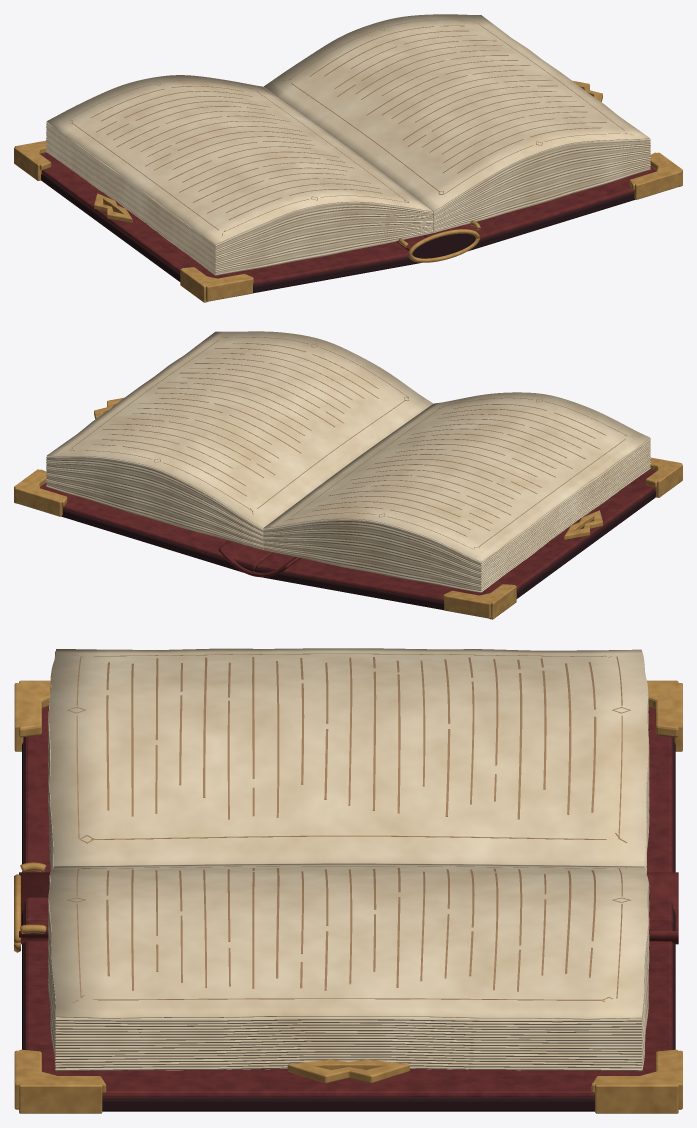
Rendered from OpenBook.fbx.
3 views of the same model, one above another, from view 1: azimuth 30°, elevation 25°; view 2: azimuth 150°, elevation 25°; view 3: azimuth 270°, elevation 25° (orthographic). The views are drawn at different scales.
Parts seen in each view (by area): view 1: OpenBook_Surfaces, OpenBook_Writing; view 2: OpenBook_Surfaces, OpenBook_Writing; view 3: OpenBook_Surfaces, OpenBook_Writing.
Boxes of the visible parts, <box> form: OpenBook_Surfaces: <box>14,14,682,302</box>; OpenBook_Writing: <box>69,19,633,235</box>; OpenBook_Surfaces: <box>14,331,682,619</box>; OpenBook_Writing: <box>69,335,633,549</box>; OpenBook_Surfaces: <box>14,648,682,1113</box>; OpenBook_Writing: <box>67,653,630,1002</box>.
Bounding box in the file's own units: 68.84 × 10.49 × 46.44.
Materials: 2 (1 with a texture image).
